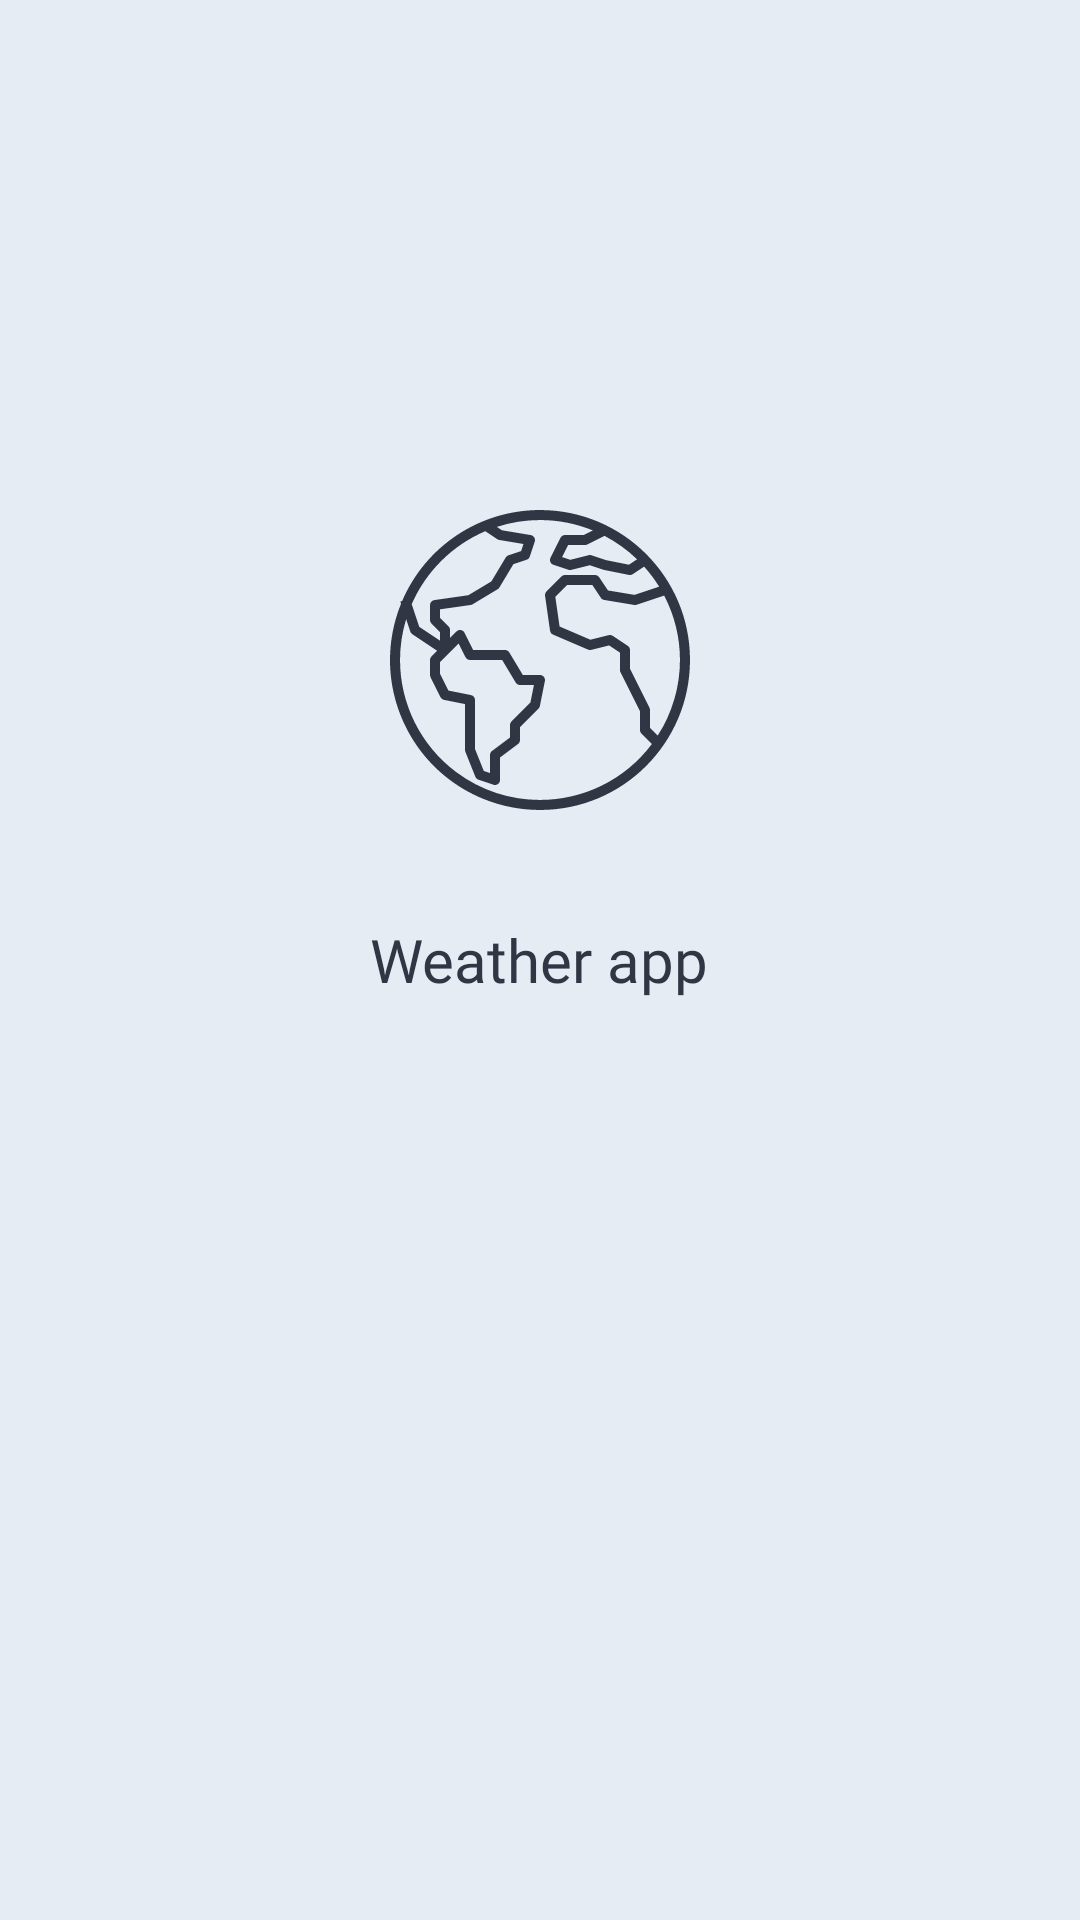

Point at icon controls on the screen. Image size 1080 × 1920, points as (x,y).
worldwide: (540,660)
